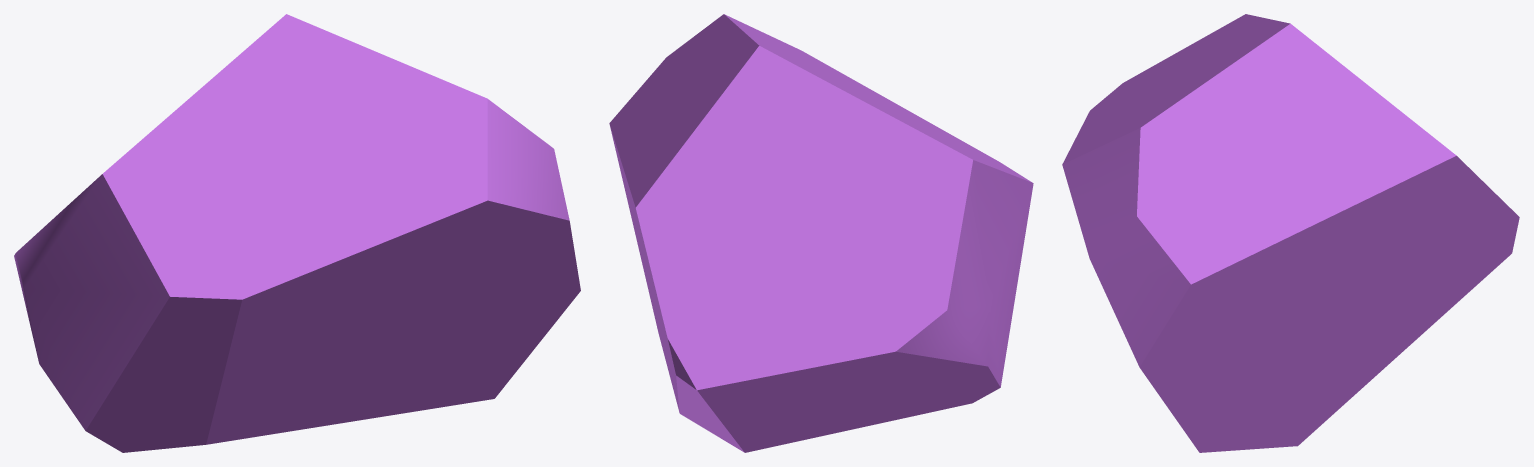
Rendered from lp_rock2.fbx.
3 views of the same model, side by side, from view 1: azimuth 30°, elevation 25°; view 2: azimuth 150°, elevation 25°; view 3: azimuth 270°, elevation 25° (orthographic). The views are drawn at different scales.
Parts seen in each view (by area): view 1: pSolid1; view 2: pSolid1; view 3: pSolid1.
Boxes of the visible parts, x1=… form: pSolid1: x1=14, y1=14, x2=580, y2=452; pSolid1: x1=609, y1=14, x2=1033, y2=452; pSolid1: x1=1062, y1=14, x2=1519, y2=452.
Size of the model in its own units: 1.87 by 1.6 by 1.7.
